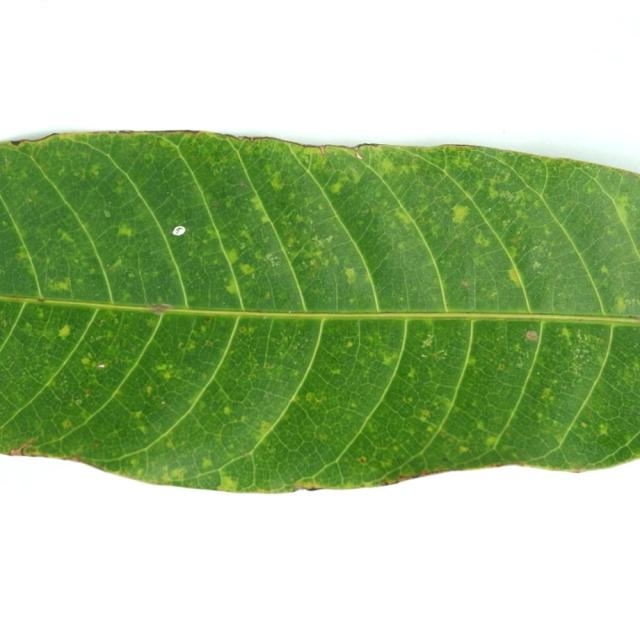Mango: (0, 131, 639, 492)
Powdery_Mildew: (612, 195, 633, 228), (449, 201, 469, 227), (81, 355, 107, 372), (216, 473, 239, 491), (303, 391, 329, 406), (377, 156, 397, 175), (46, 278, 71, 293), (394, 209, 416, 226), (249, 194, 267, 214), (154, 362, 175, 378), (269, 171, 285, 191), (116, 222, 134, 239), (507, 267, 523, 286), (56, 230, 75, 244), (266, 251, 282, 267), (15, 247, 32, 262), (238, 263, 256, 277), (225, 247, 239, 265), (474, 234, 492, 248), (224, 280, 239, 296), (344, 267, 357, 285), (328, 181, 344, 195), (614, 296, 628, 312), (381, 353, 397, 366), (554, 432, 567, 445), (58, 324, 70, 338), (540, 388, 554, 400), (486, 435, 499, 447), (88, 163, 100, 176), (238, 230, 251, 242), (561, 327, 572, 340), (201, 457, 213, 468), (259, 213, 270, 224), (598, 423, 608, 435), (304, 392, 315, 402), (61, 419, 72, 429), (476, 419, 486, 430), (532, 260, 542, 270), (260, 422, 270, 432), (132, 411, 143, 420), (24, 321, 33, 331), (81, 357, 90, 366), (600, 265, 609, 274), (467, 356, 476, 365), (459, 445, 469, 453), (330, 367, 341, 374), (223, 406, 231, 415), (407, 371, 416, 379), (421, 409, 430, 417), (345, 341, 353, 348), (104, 210, 111, 217), (146, 386, 152, 394), (580, 422, 587, 428)
